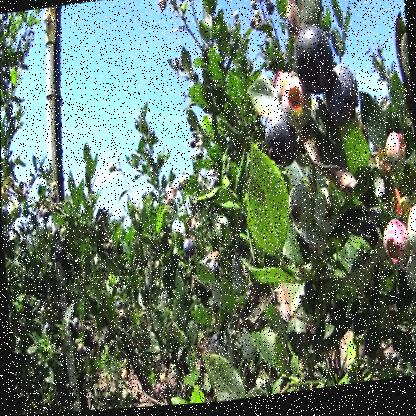intermediate: (382, 225, 411, 281), (386, 134, 409, 180)
mature: (295, 33, 334, 93), (324, 68, 360, 128), (267, 122, 298, 166), (184, 243, 196, 259)
young: (287, 187, 317, 238), (312, 197, 343, 245), (283, 85, 311, 129), (405, 213, 416, 266), (405, 262, 416, 305)
